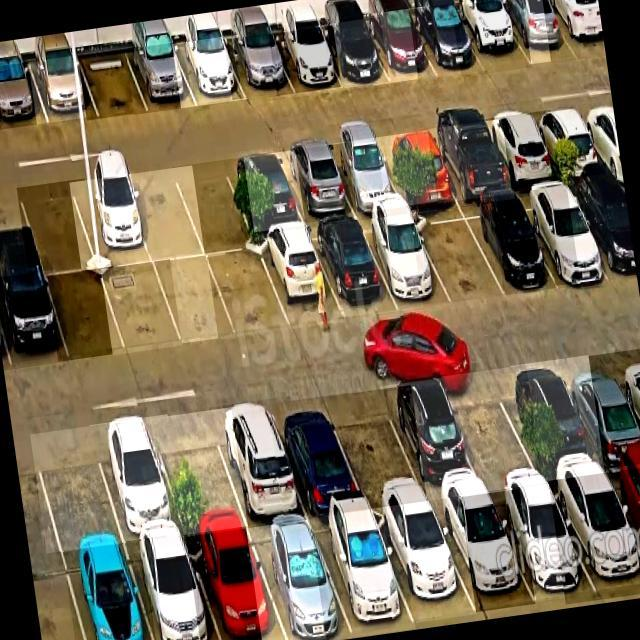empty: (443, 370, 543, 491), (151, 415, 248, 535), (326, 390, 427, 505), (31, 426, 123, 551), (412, 208, 504, 303), (173, 160, 256, 255), (17, 182, 97, 274), (125, 170, 205, 262), (101, 263, 182, 353), (155, 257, 237, 343), (208, 250, 290, 335), (47, 271, 125, 360), (78, 50, 149, 117)
occupied: (310, 510, 416, 638), (381, 379, 487, 501), (247, 521, 352, 640), (490, 485, 597, 601), (431, 493, 535, 612), (372, 504, 476, 622), (210, 401, 307, 525), (549, 473, 640, 599), (91, 419, 184, 541), (269, 398, 365, 516), (186, 528, 287, 640), (511, 361, 605, 481), (127, 536, 220, 640), (516, 187, 611, 286), (561, 356, 640, 472), (462, 200, 555, 295), (257, 228, 343, 329), (64, 544, 153, 640), (310, 221, 398, 317), (360, 215, 451, 307), (69, 176, 152, 269), (567, 180, 637, 282), (0, 273, 68, 369), (224, 153, 306, 232), (428, 123, 512, 200), (278, 146, 357, 223), (325, 139, 405, 213), (452, 1, 532, 74), (483, 114, 561, 188), (377, 131, 457, 203), (531, 107, 606, 179), (364, 10, 437, 83), (409, 7, 485, 77), (495, 0, 578, 64), (316, 20, 390, 87), (173, 41, 247, 106), (126, 45, 197, 112), (269, 29, 342, 93), (29, 56, 98, 123), (225, 35, 293, 98), (545, 0, 605, 58), (0, 63, 48, 130), (606, 466, 640, 548)
